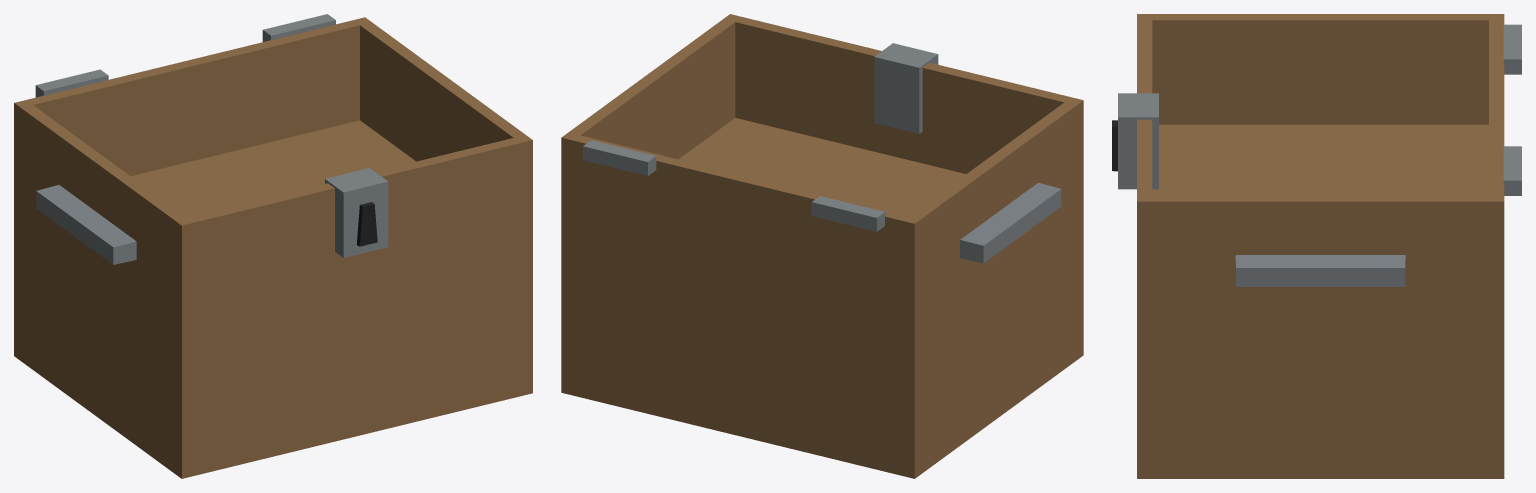
File: SM_Treasure_Chest_01_B_Base.fbx
3 renders of one model, left to right at view 1: azimuth 30°, elevation 25°; view 2: azimuth 150°, elevation 25°; view 3: azimuth 270°, elevation 25°, orthographic. The views are drawn at different scales.
Visible parts, largest first — view 1: pCube645; view 2: pCube645; view 3: pCube645.
Part boxes in pixels (x1=…): pCube645: x1=14, y1=14, x2=532, y2=478; pCube645: x1=561, y1=14, x2=1083, y2=478; pCube645: x1=1112, y1=14, x2=1521, y2=478.
Bounding box in the file's own units: 65.65 × 40.72 × 53.57.
1 material, 1 textured.
